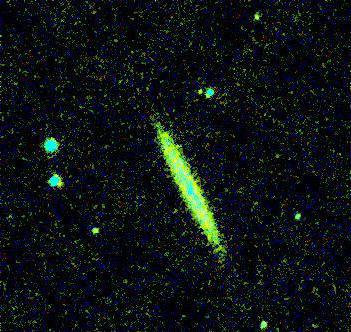star: (80, 215, 110, 245)
